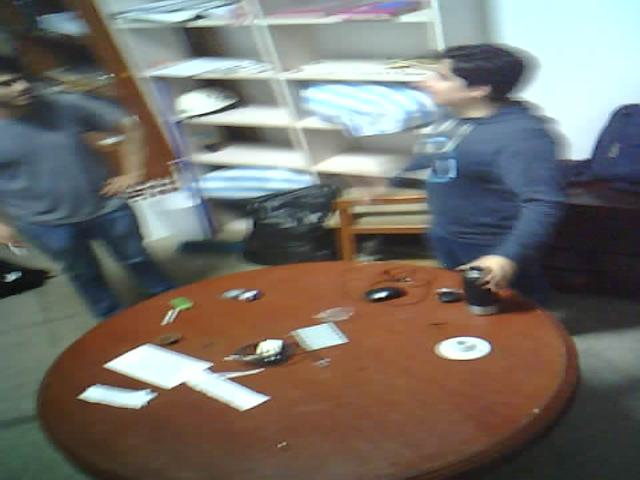person: (384, 23, 603, 340), (0, 26, 200, 327)
